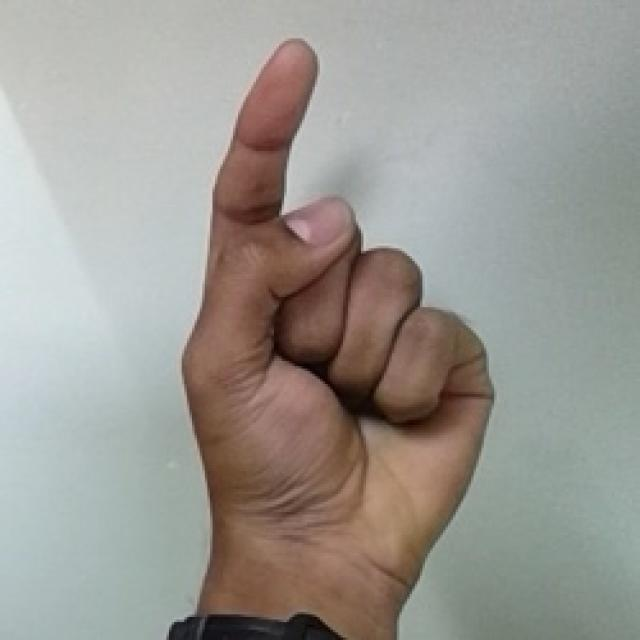Numeric-1: (184, 40, 493, 612)
